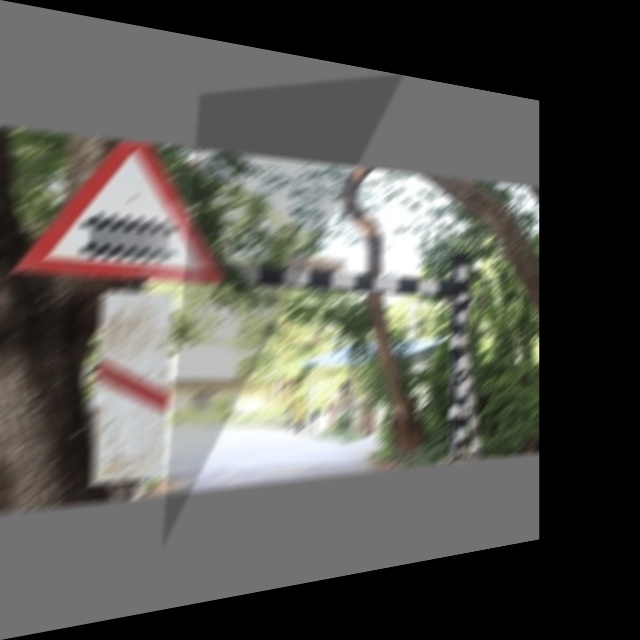Guarded_Level_Crossing: (31, 138, 222, 285)
